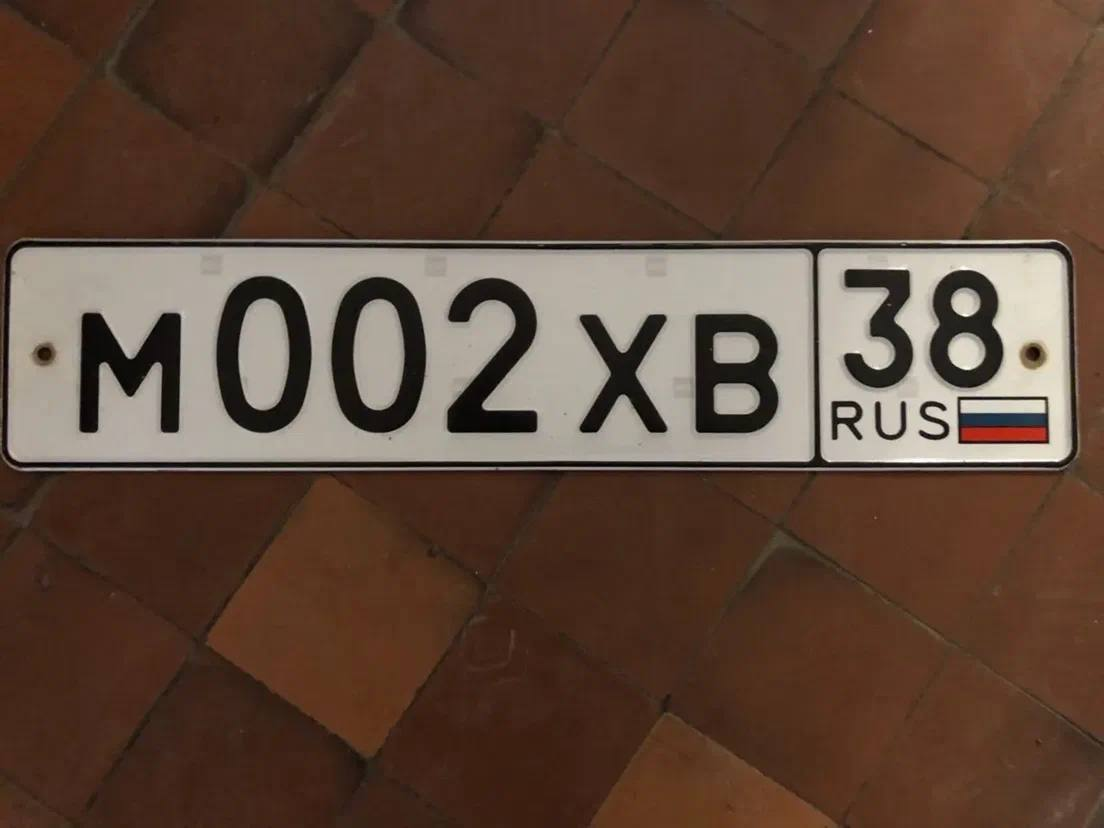number_plate: (16, 255, 1072, 468)
